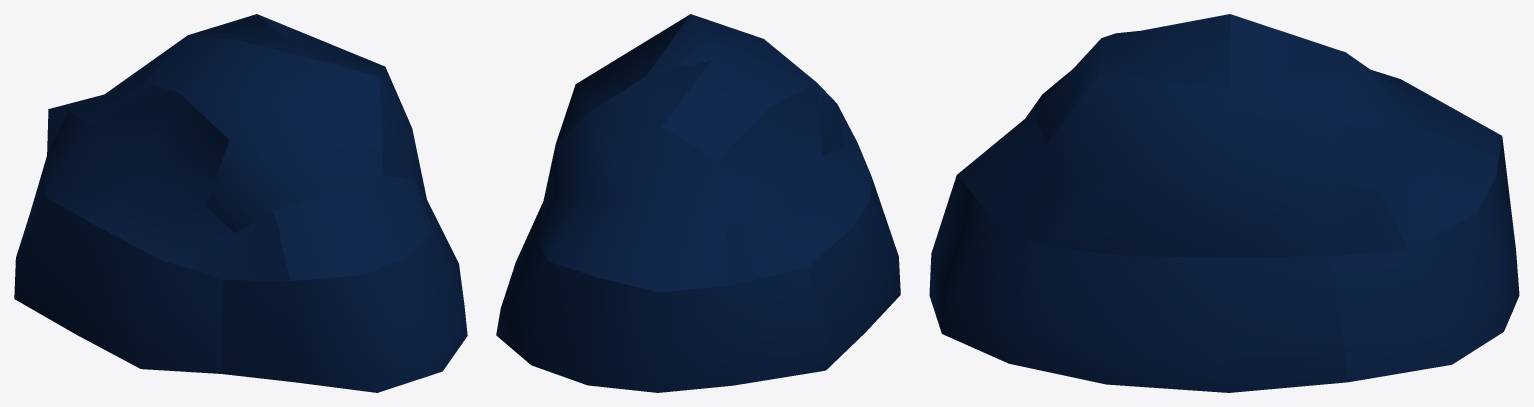
File: Rock1.fbx
3 renders of one model, left to right at view 1: azimuth 30°, elevation 25°; view 2: azimuth 150°, elevation 25°; view 3: azimuth 270°, elevation 25°, orthographic. The views are drawn at different scales.
Parts seen in each view (by area): view 1: Cube; view 2: Cube; view 3: Cube.
Boxes of the visible parts, box(x1,y1,x2,y2) form: Cube: box(14, 14, 467, 392); Cube: box(496, 14, 900, 392); Cube: box(929, 14, 1519, 392).
Bounding box in the file's own units: 161 × 109 × 208.
